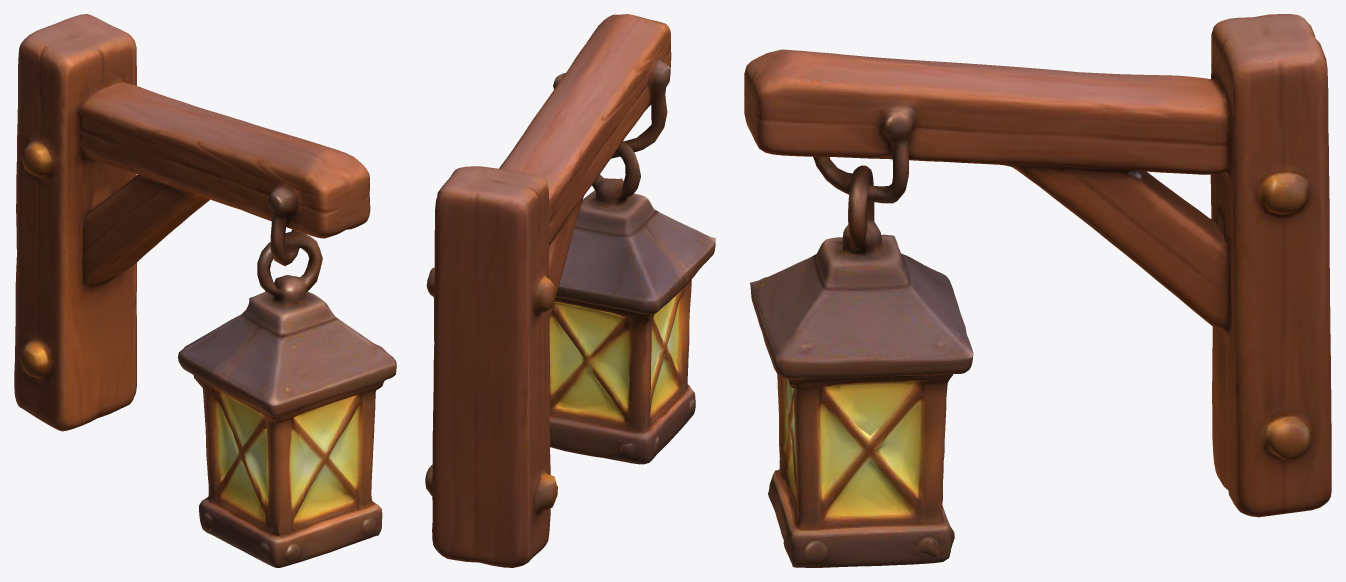
Rendered from pier-lantern.glb.
3 views of the same model, side by side, from view 1: azimuth 30°, elevation 25°; view 2: azimuth 150°, elevation 25°; view 3: azimuth 270°, elevation 25° (orthographic). The views are drawn at different scales.
Parts seen in each view (by area): view 1: tripo_node_8bf4e10f-afa9-4e89-aae0-4c2144d8e487; view 2: tripo_node_8bf4e10f-afa9-4e89-aae0-4c2144d8e487; view 3: tripo_node_8bf4e10f-afa9-4e89-aae0-4c2144d8e487.
Part boxes in pixels (box(x1,y1,x2,y2)): tripo_node_8bf4e10f-afa9-4e89-aae0-4c2144d8e487: box(14, 14, 396, 567); tripo_node_8bf4e10f-afa9-4e89-aae0-4c2144d8e487: box(425, 14, 715, 567); tripo_node_8bf4e10f-afa9-4e89-aae0-4c2144d8e487: box(744, 14, 1331, 567).
Bounding box in the file's own units: 0.4296 × 0.9152 × 0.9952.
1 material, 1 textured.
